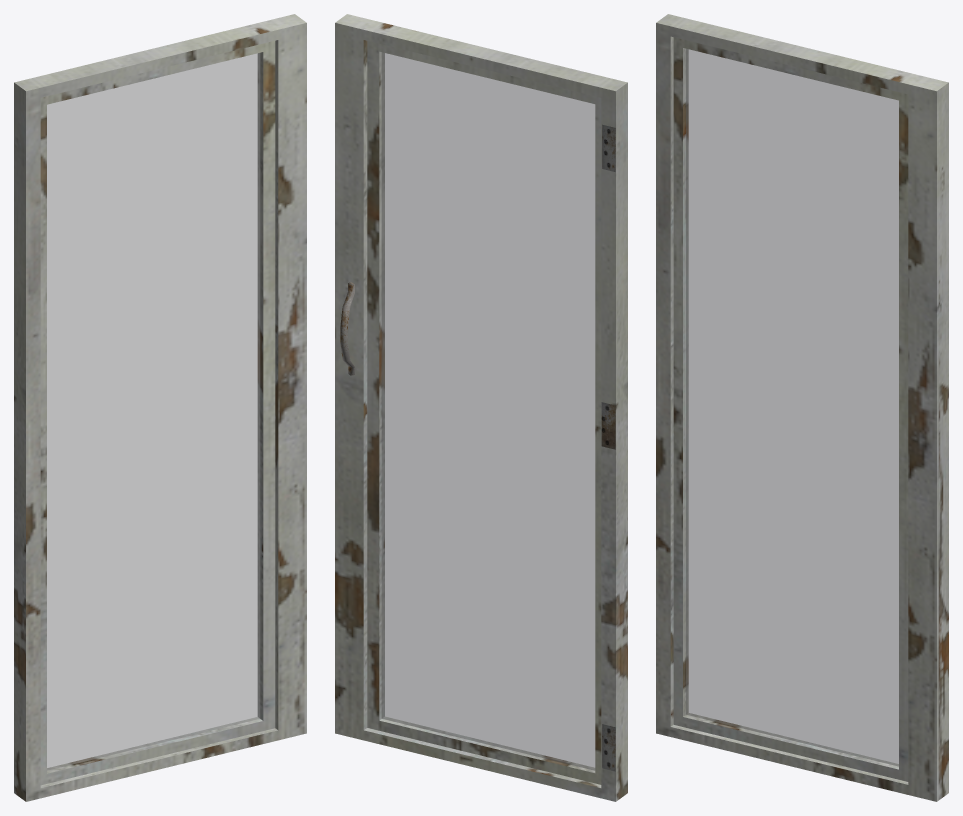
The model's file is Cubbert_A_Door_R.fbx.
The picture shows the model from 3 angles, left to right: view 1: azimuth 30°, elevation 25°; view 2: azimuth 150°, elevation 25°; view 3: azimuth 330°, elevation 25°; orthographic projection.
Visible parts, largest first — view 1: Cubbert_A_Door_R; view 2: Cubbert_A_Door_R; view 3: Cubbert_A_Door_R.
Part boxes in pixels (box(x1,y1,x2,y2)): Cubbert_A_Door_R: box(14, 14, 306, 801); Cubbert_A_Door_R: box(335, 14, 627, 801); Cubbert_A_Door_R: box(656, 14, 948, 801).
Bounding box in the file's own units: 0.464 × 1.12 × 0.0601.
